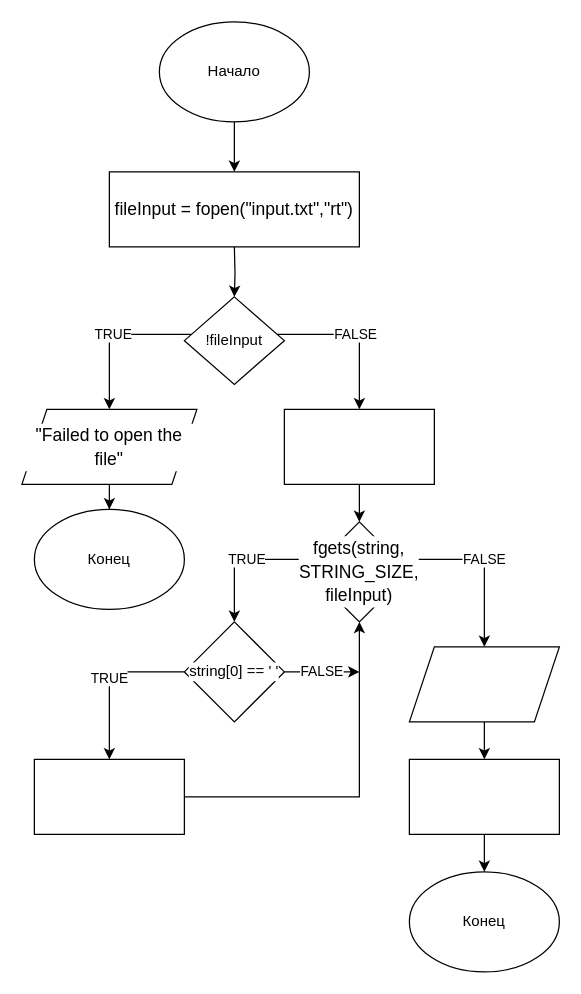
This 581x994 diagram has some shape labels left out. Here are the shapes that lost their labels. From the top down, the centre of each, then its label:
(358,446): counter = 0
(483,684): counter
(108,796): counter++
(483,796): fclose(fileInput)
